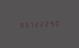nine: (47, 19, 51, 27), (17, 21, 21, 28)
seven: (27, 20, 31, 28)
three: (22, 20, 26, 28)
two: (32, 20, 36, 28), (42, 19, 46, 27), (37, 20, 41, 27)
zero: (52, 19, 56, 27)
